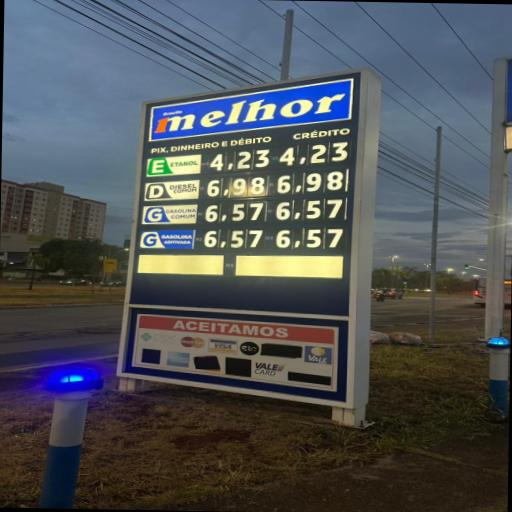ETANOL: (145, 155, 203, 176)
GASOLINA AD: (141, 229, 196, 247)
GASOLINA C: (141, 205, 195, 223)
S500: (145, 180, 200, 200)
placa: (131, 72, 359, 254)
preco: (209, 147, 274, 172), (206, 174, 270, 199), (202, 201, 267, 223), (201, 228, 267, 249)
